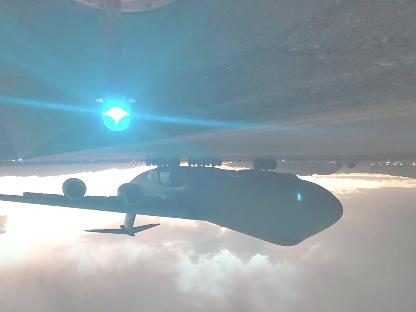C17: (0, 158, 343, 247)
